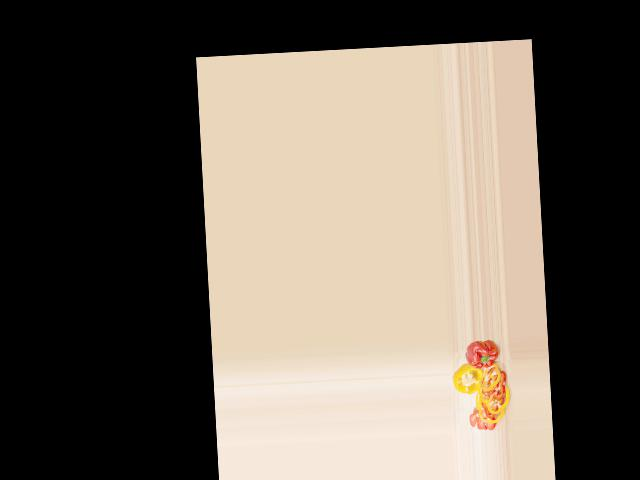bell_pepper: (451, 364, 483, 396)
